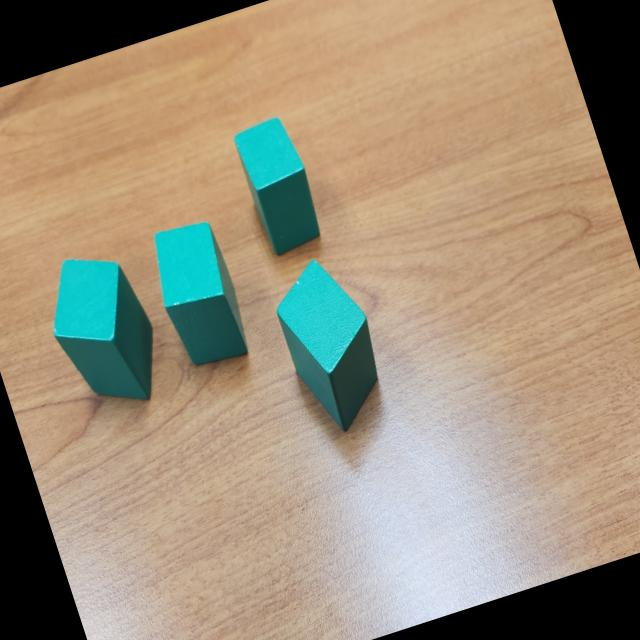green: (262, 249, 399, 442), (33, 238, 175, 421), (140, 214, 256, 374), (230, 112, 328, 259)
